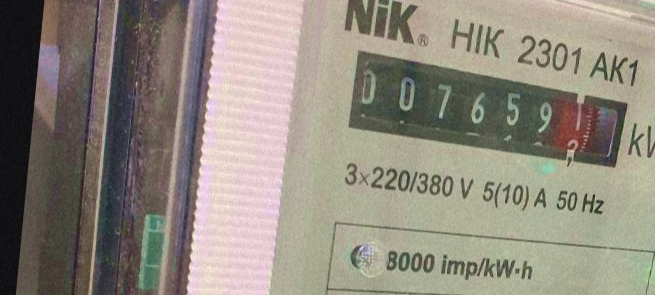0: (391, 71, 419, 114), (353, 64, 380, 107)
1: (567, 100, 587, 135)
5: (499, 89, 523, 128)
6: (464, 86, 489, 127)
7: (430, 80, 452, 122)
9: (533, 98, 553, 136)
screen: (334, 40, 638, 187)
